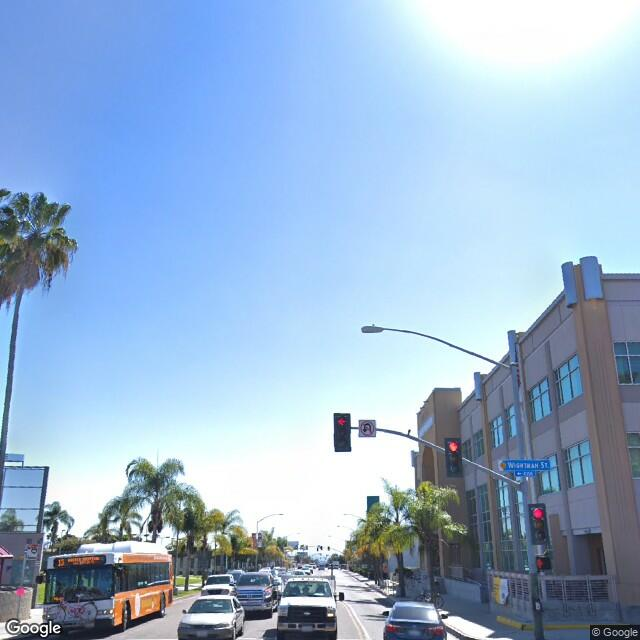light: (360, 323, 384, 335)
window: (561, 438, 592, 490), (612, 338, 640, 387), (523, 384, 556, 422), (490, 415, 502, 447)
